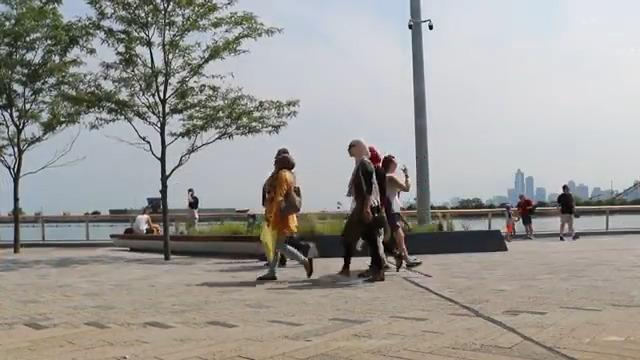no-helmet: (348, 138, 370, 159), (381, 154, 398, 174)
